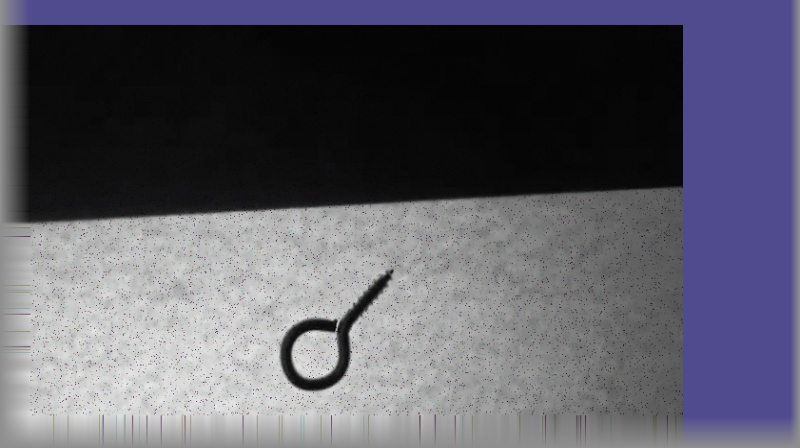O001: (275, 265, 399, 393)
